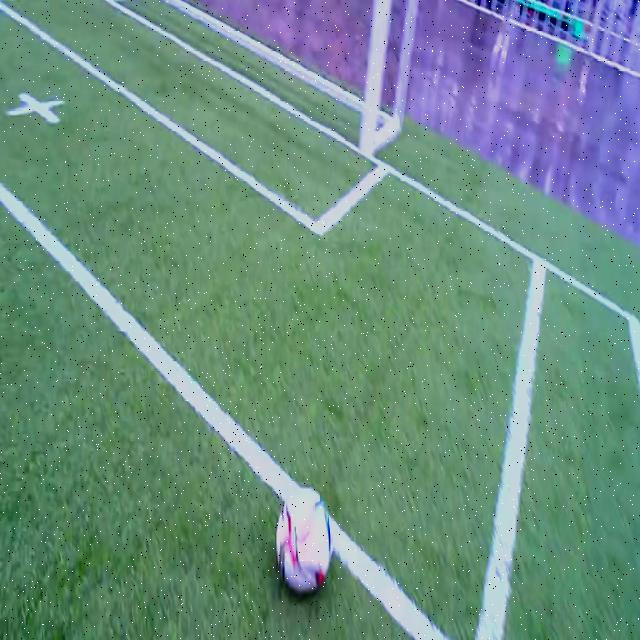ball: (276, 488, 333, 594)
